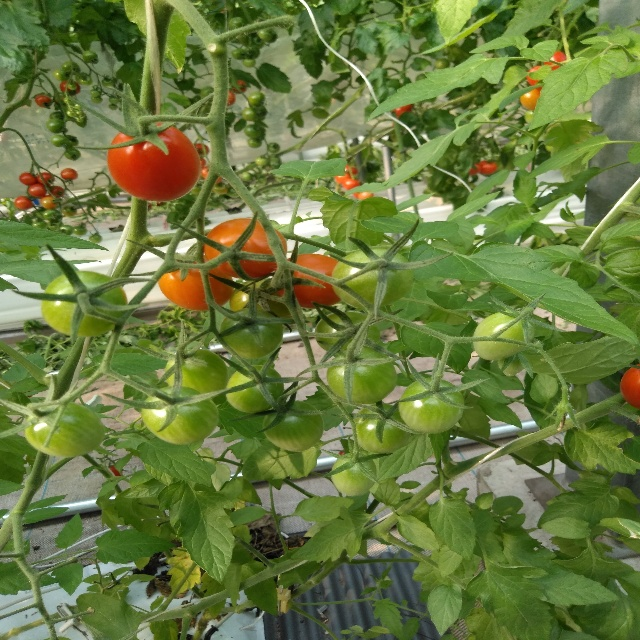l_fully_ripened: (107, 121, 200, 202), (619, 363, 639, 410)
l_green: (39, 269, 129, 338), (332, 248, 414, 308), (141, 386, 219, 445), (24, 401, 105, 457), (327, 347, 398, 404), (398, 377, 465, 435), (164, 348, 229, 404), (262, 400, 325, 453), (472, 309, 536, 361), (220, 309, 283, 359), (353, 401, 411, 454), (313, 311, 381, 356), (231, 277, 300, 321), (225, 363, 284, 414), (329, 452, 377, 496), (498, 349, 527, 376)
l_half_ripened: (202, 218, 287, 280), (157, 254, 233, 311), (274, 253, 341, 309)
